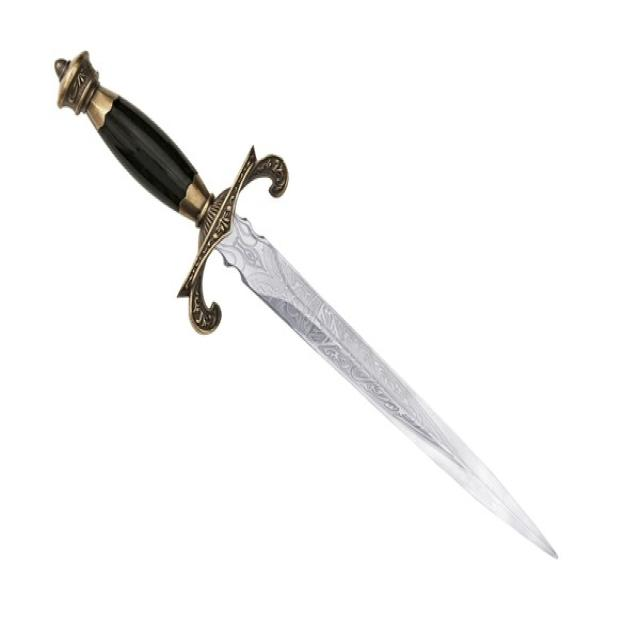Gun: (43, 48, 566, 585)
